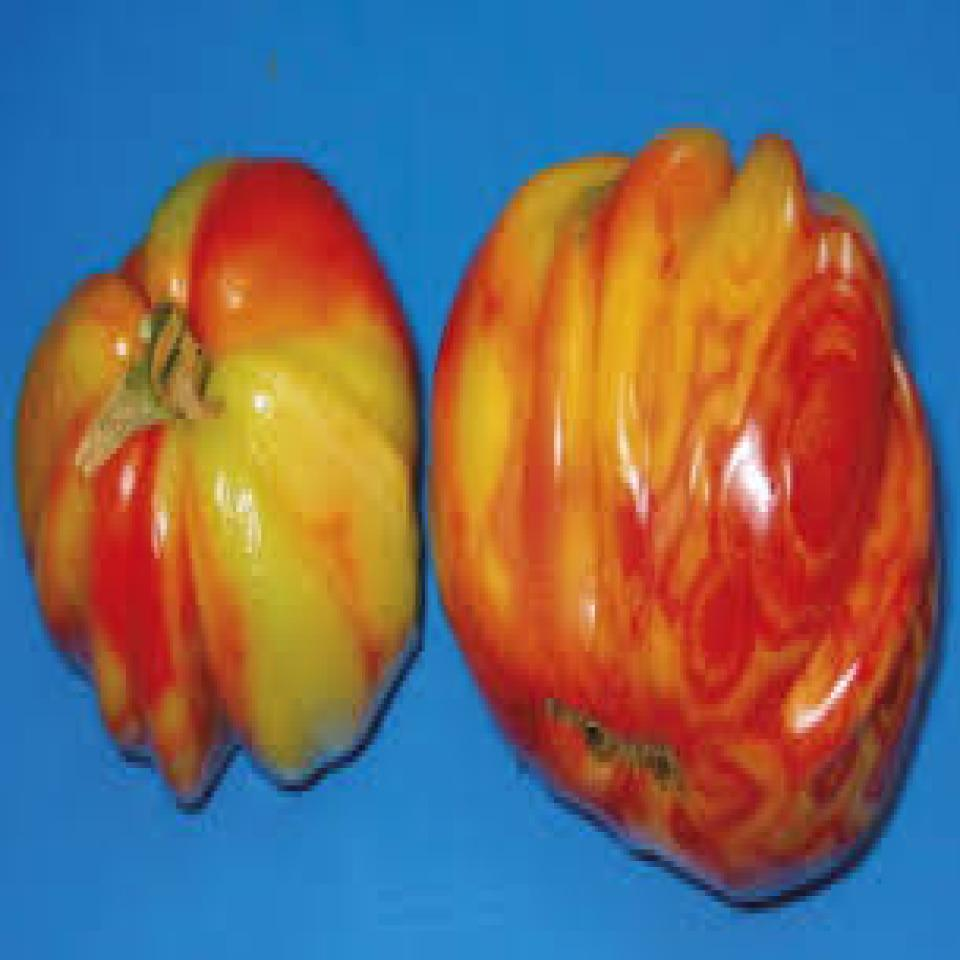Spotted wilt Virus: (431, 128, 935, 908), (16, 157, 425, 815)
